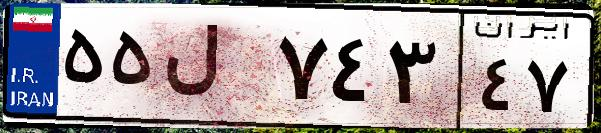3: (385, 28, 445, 110)
4: (330, 28, 385, 110), (475, 38, 525, 113)
5: (57, 26, 110, 100), (110, 28, 158, 98)
7: (270, 28, 330, 110), (525, 38, 570, 115)
ل: (158, 20, 270, 120)
